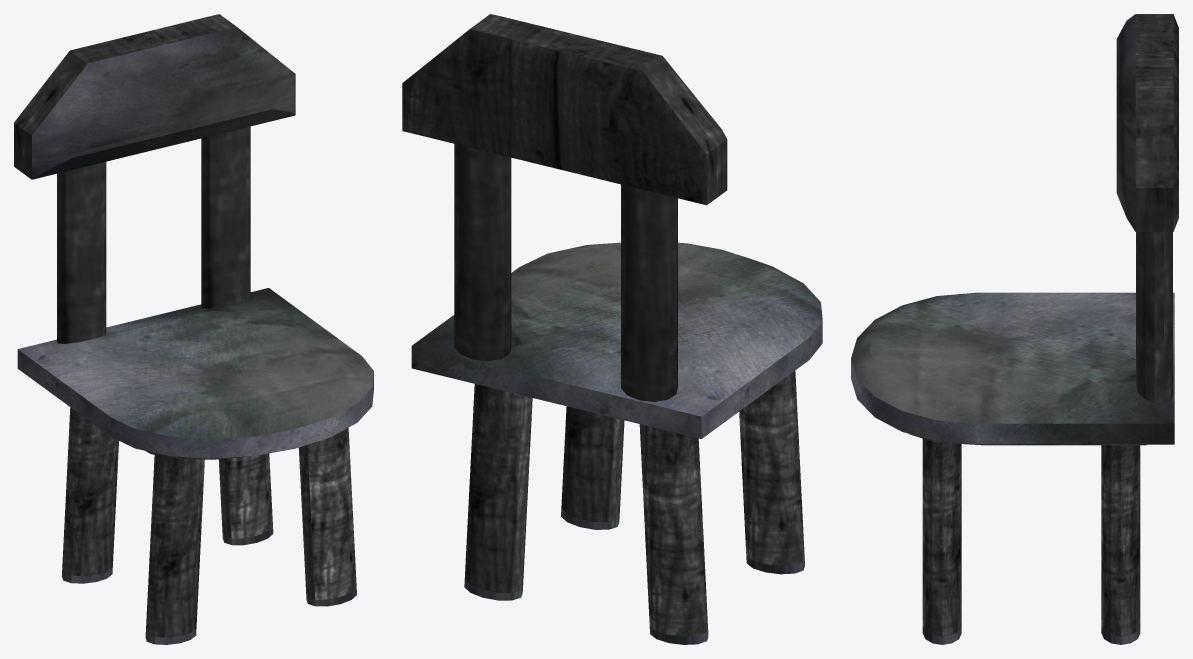
File: Chair.fbx
The picture shows the model from 3 angles, left to right: view 1: azimuth 30°, elevation 25°; view 2: azimuth 150°, elevation 25°; view 3: azimuth 270°, elevation 25°; orthographic projection. The views are drawn at different scales.
Visible parts, largest first — view 1: Chair; view 2: Chair; view 3: Chair.
Part boxes in pixels (box(x1,y1,x2,y2)): Chair: box(14, 14, 373, 644); Chair: box(402, 14, 822, 644); Chair: box(851, 14, 1178, 644).
Size of the model in its own units: 2.69 by 4.93 by 2.71.
